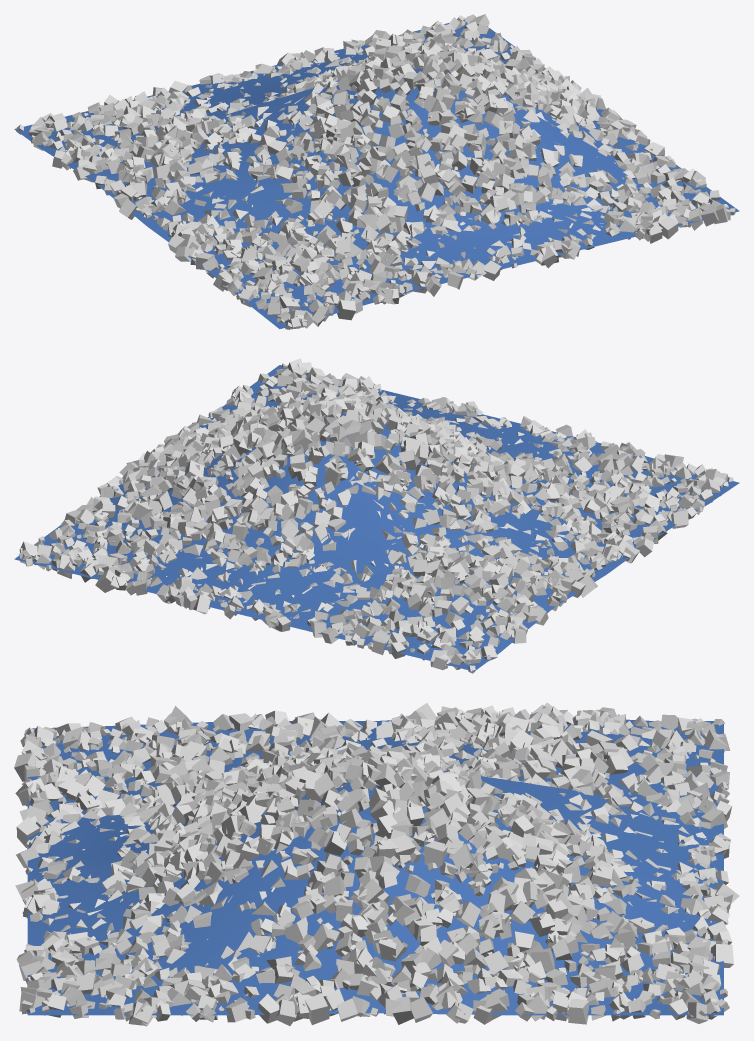
Rendered from Rock Pile.fbx.
3 renders of one model, top to bottom at view 1: azimuth 30°, elevation 25°; view 2: azimuth 150°, elevation 25°; view 3: azimuth 270°, elevation 25°, orthographic. The views are drawn at different scales.
Visible parts, largest first — view 1: Plane.030; view 2: Plane.030; view 3: Plane.030.
Part boxes in pixels (box(x1,y1,x2,y2)): Plane.030: box(14, 14, 739, 329); Plane.030: box(14, 358, 739, 673); Plane.030: box(14, 702, 739, 1026).
Size of the model in its own units: 665 by 163 by 671.
